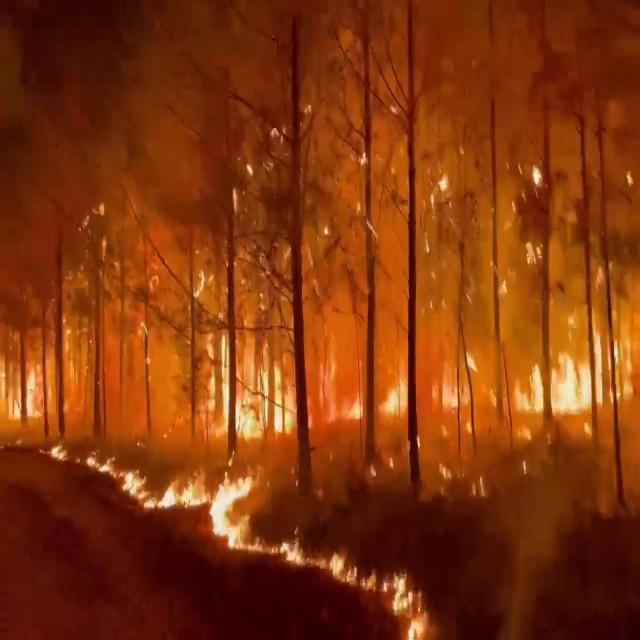Fire: (514, 300, 636, 432), (198, 318, 296, 446), (199, 452, 291, 564), (338, 536, 436, 638), (97, 453, 218, 527), (376, 368, 486, 446), (0, 338, 43, 432)
Smoke: (0, 0, 364, 378), (333, 1, 640, 352)
